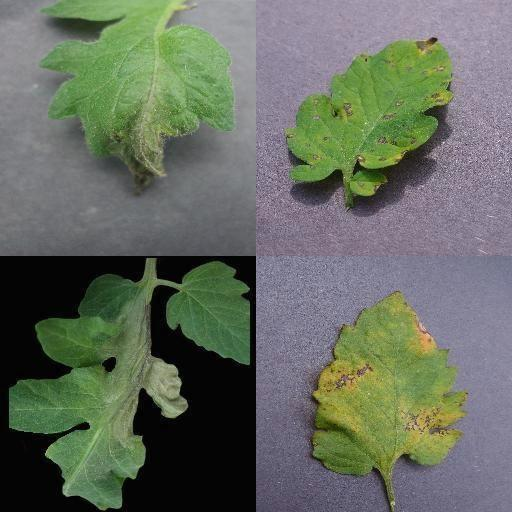Healthy: (164, 262, 250, 366)
Late Blight: (10, 274, 188, 512), (38, 0, 236, 198)
Septoria: (310, 288, 470, 474), (284, 37, 454, 183)
